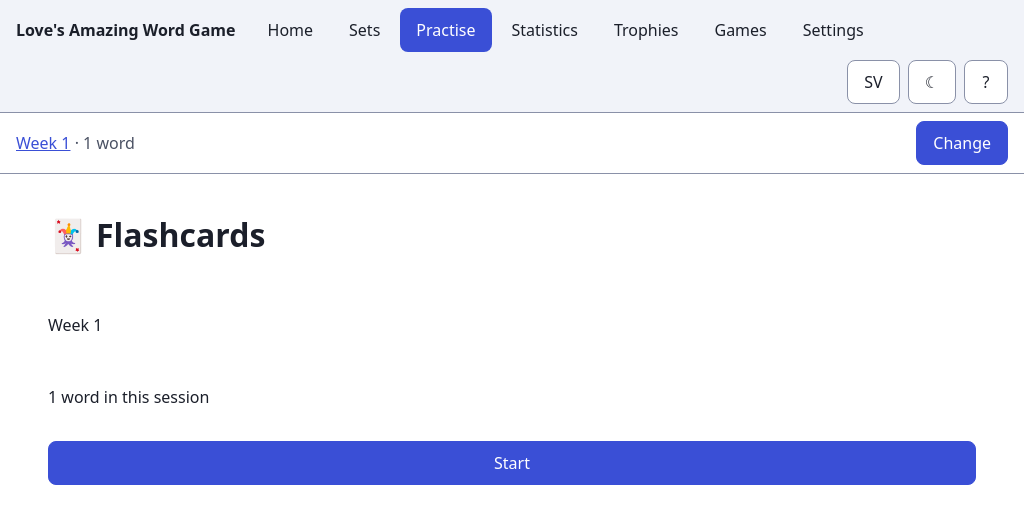
Test: training error handling › FR-BP-2: a failing mode card shows the error message and keeps the app shell
Note: The first render in a file is slow when the whole suite runs in parallel.
Click the button "Start".
click(512, 463)  # box [48, 441, 976, 485]
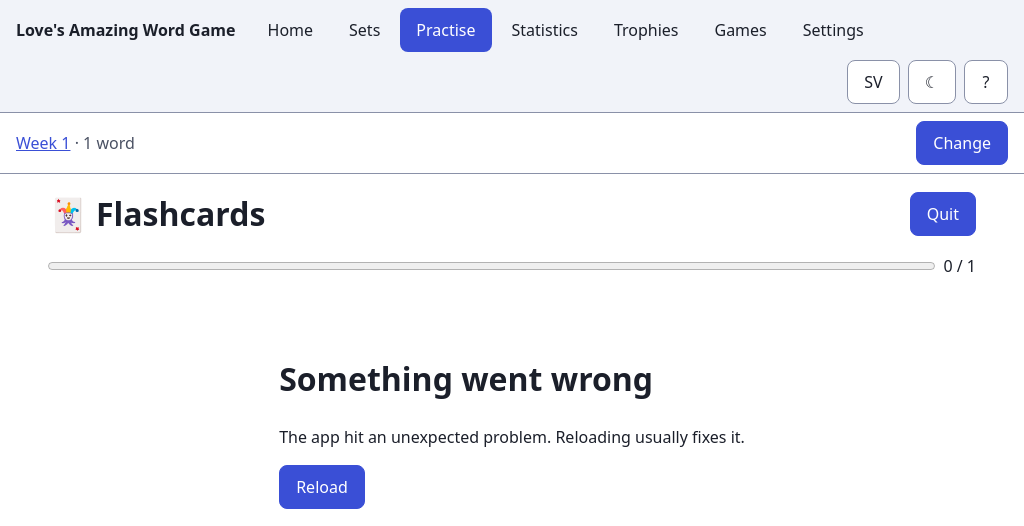
Check: the message shows "Something went wrong", box [279, 357, 653, 400]
Check: the button "Reload" is shown, box [279, 465, 365, 509]
Check: the button "Quit" is shown, box [910, 192, 976, 236]
